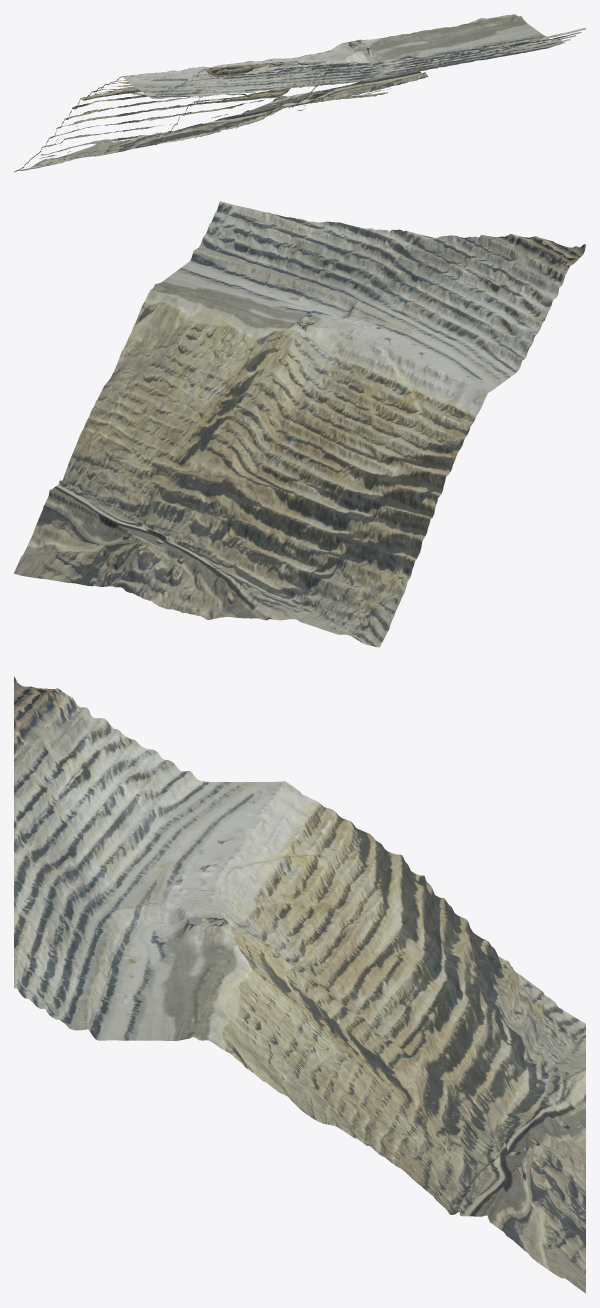
3 views of the same model, one above another, from view 1: azimuth 30°, elevation 25°; view 2: azimuth 150°, elevation 25°; view 3: azimuth 270°, elevation 25° (orthographic). The views are drawn at different scales.
Parts seen in each view (by area): view 1: l2-1-0; view 2: l2-1-0; view 3: l2-1-0.
Boxes of the visible parts, x1=… form: l2-1-0: x1=14, y1=14, x2=585, y2=172; l2-1-0: x1=14, y1=201, x2=585, y2=647; l2-1-0: x1=14, y1=676, x2=585, y2=1293.
Size of the model in its own units: 768 by 537 by 751.
Materials: 1 (1 with a texture image).
